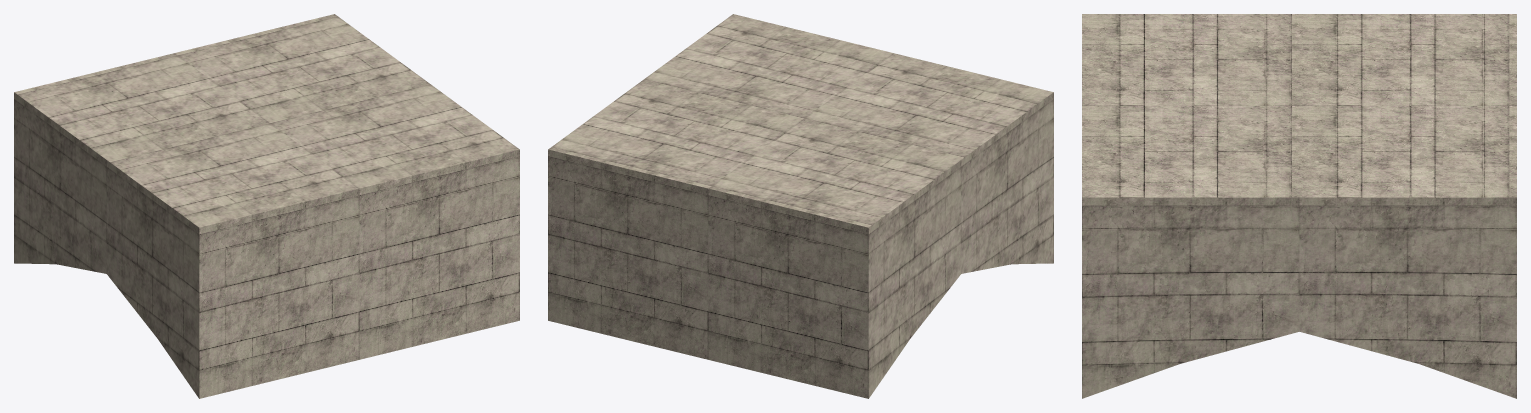
The model's file is BracingDoubleCenter.dae.
3 views of the same model, side by side, from view 1: azimuth 30°, elevation 25°; view 2: azimuth 150°, elevation 25°; view 3: azimuth 270°, elevation 25° (orthographic). The views are drawn at different scales.
Visible parts, largest first — view 1: BracingDoubleCenter; view 2: BracingDoubleCenter; view 3: BracingDoubleCenter.
Part boxes in pixels (x1=…): BracingDoubleCenter: x1=14, y1=14, x2=519, y2=398; BracingDoubleCenter: x1=548, y1=14, x2=1053, y2=398; BracingDoubleCenter: x1=1082, y1=14, x2=1516, y2=398.
Size of the model in its own units: 4 by 2.04 by 4.
Materials: 1 (1 with a texture image).
